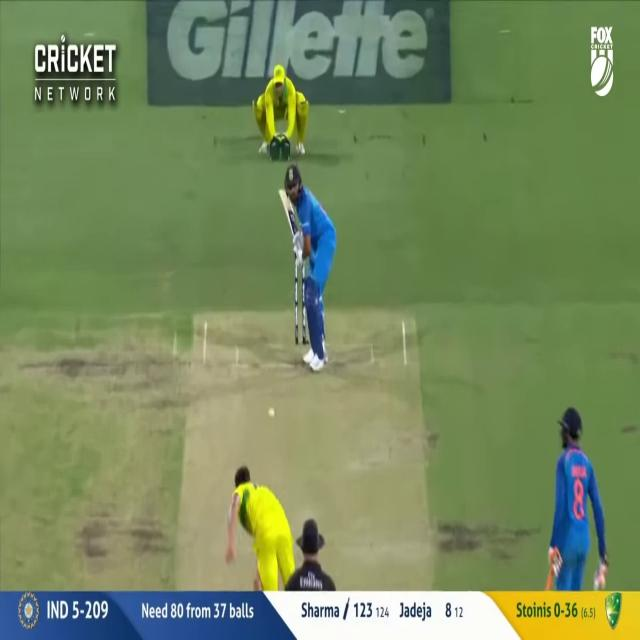ball: (268, 408, 276, 417)
stump: (293, 255, 306, 346)
